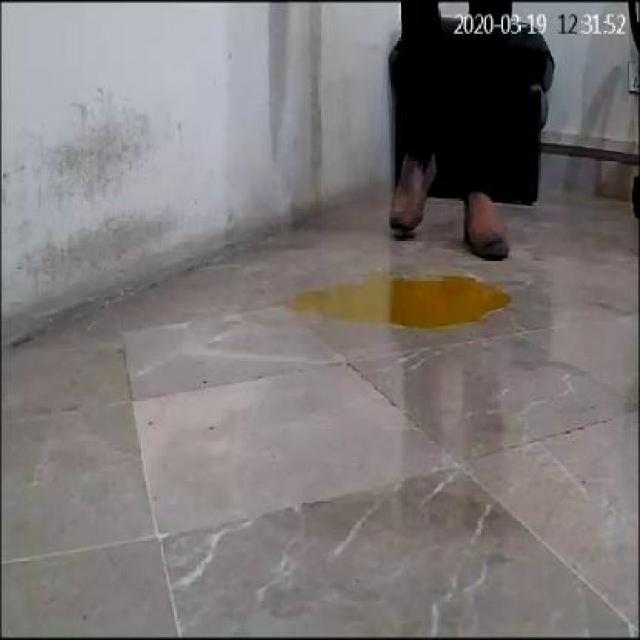spill: (290, 270, 512, 330)
